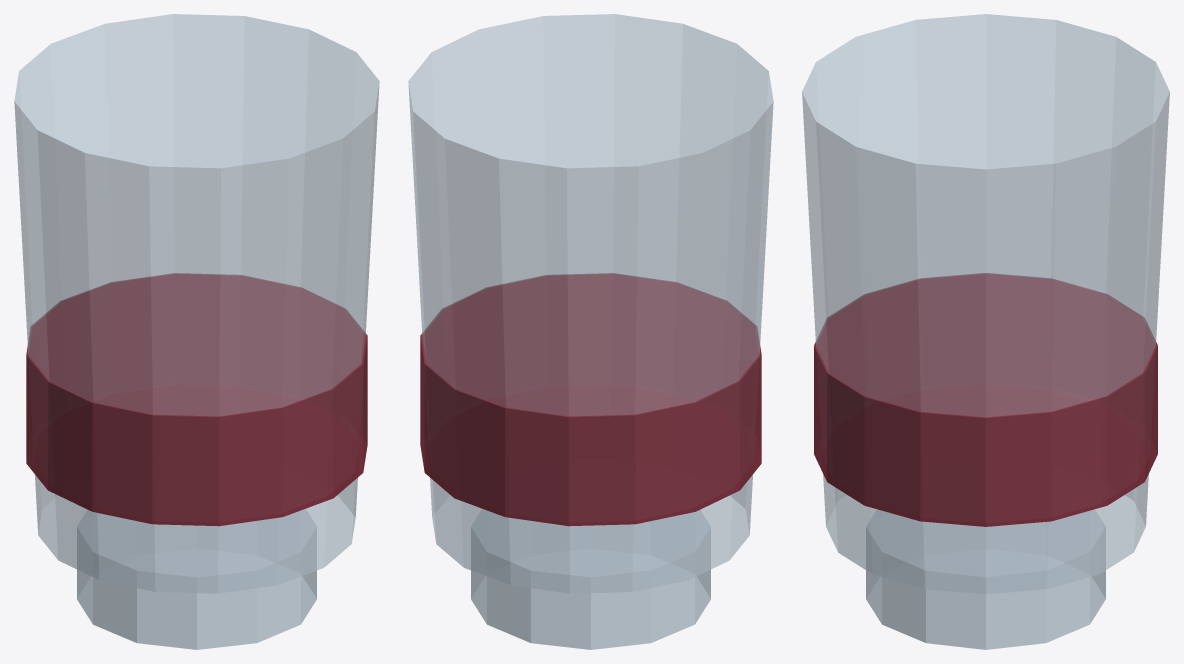
File: glass.fbx
The picture shows the model from 3 angles, left to right: view 1: azimuth 30°, elevation 25°; view 2: azimuth 150°, elevation 25°; view 3: azimuth 270°, elevation 25°; orthographic projection.
Parts seen in each view (by area): view 1: glass; view 2: glass; view 3: glass.
Part boxes in pixels (left/top/right/bottom): glass: left=14, top=14, right=379, bottom=649; glass: left=408, top=14, right=773, bottom=649; glass: left=802, top=14, right=1169, bottom=649.
Size of the model in its own units: 0.092 by 0.14 by 0.092.
